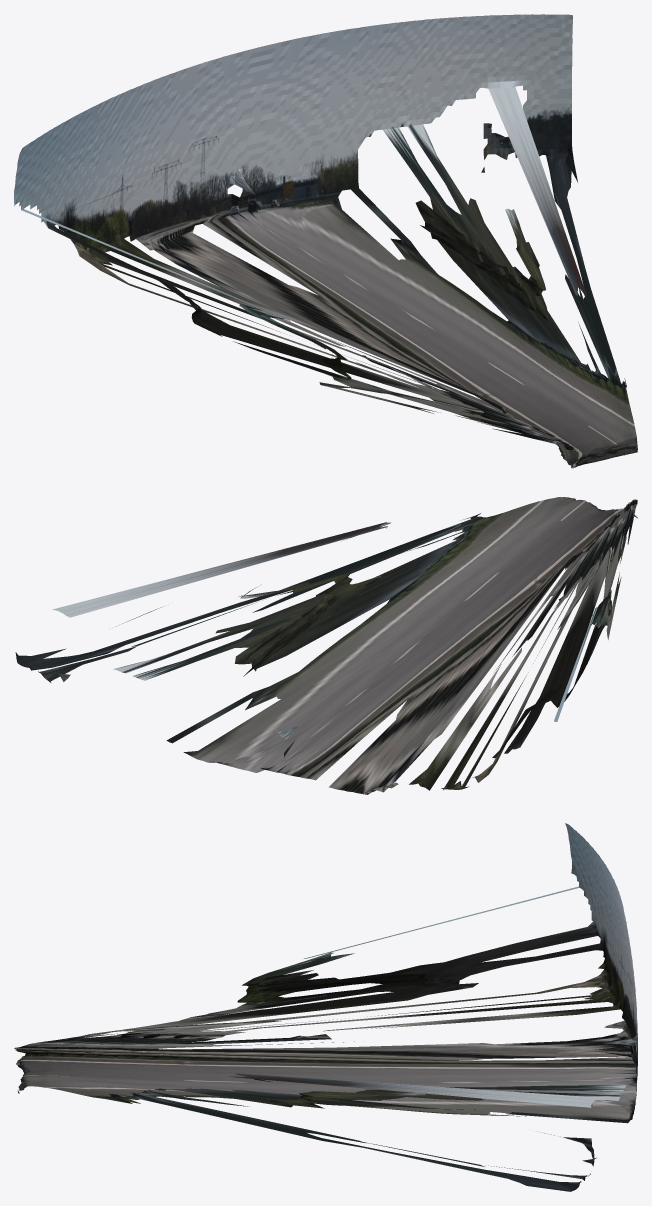
3 views of the same model, one above another, from view 1: azimuth 30°, elevation 25°; view 2: azimuth 150°, elevation 25°; view 3: azimuth 270°, elevation 25° (orthographic). The views are drawn at different scales.
Parts seen in each view (by area): view 1: defaultobject; view 2: defaultobject; view 3: defaultobject.
Boxes of the visible parts, x1,y1,x2,y2 form: defaultobject: [14, 14, 637, 468]; defaultobject: [15, 497, 637, 794]; defaultobject: [14, 823, 637, 1191].
Size of the model in its own units: 41.05 by 12.45 by 44.51.
Materials: 1 (1 with a texture image).
